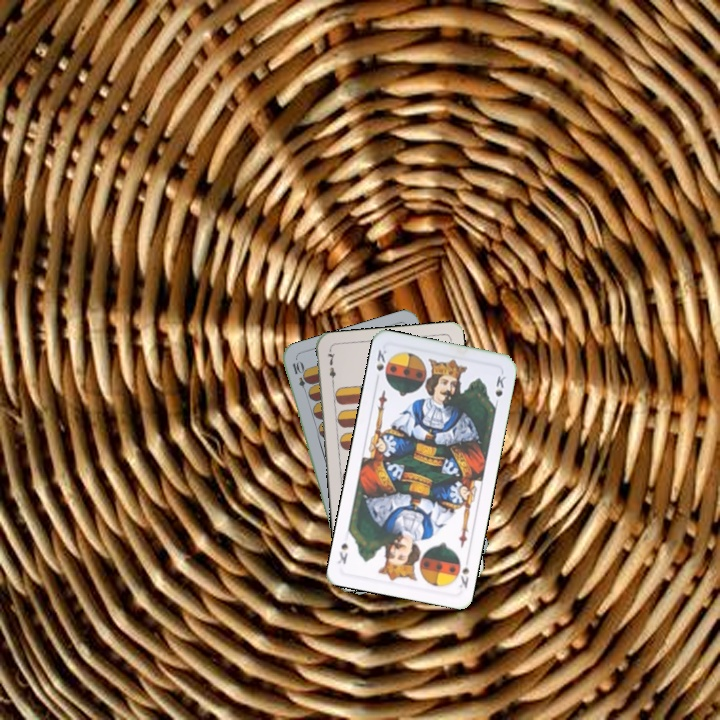E10: (288, 357, 311, 397)
E7: (323, 347, 338, 387)
SK: (451, 554, 472, 591), (372, 346, 391, 374)
